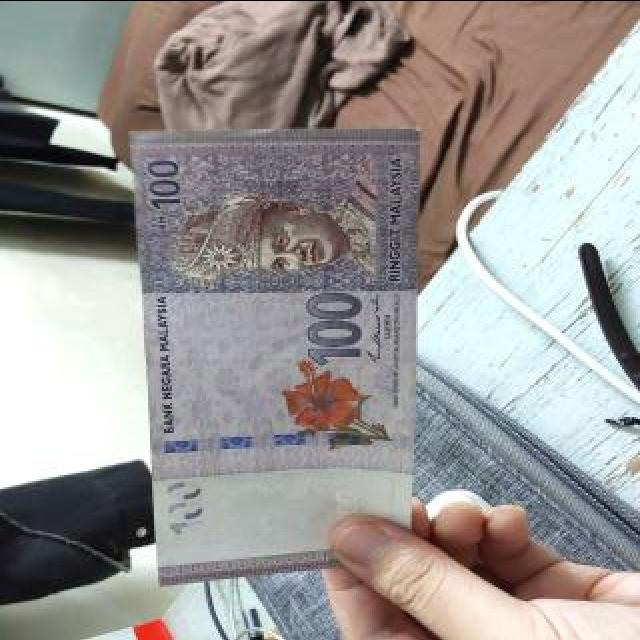100 Ringgit: (128, 115, 420, 580)
